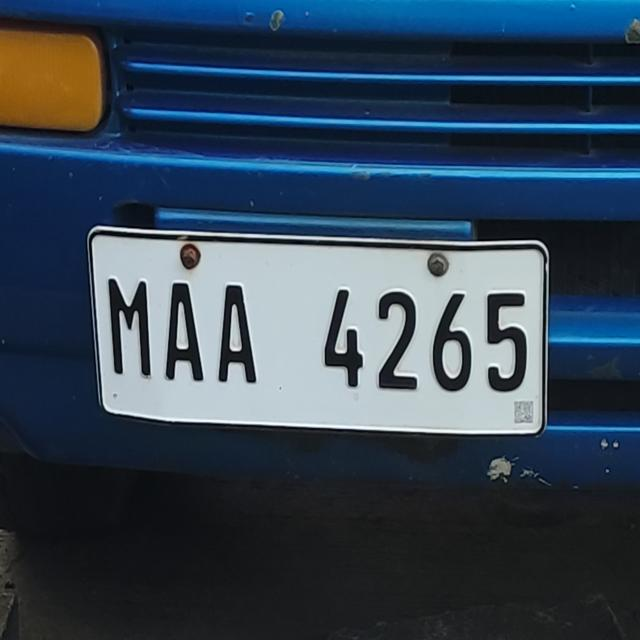plate: (81, 216, 554, 441)
